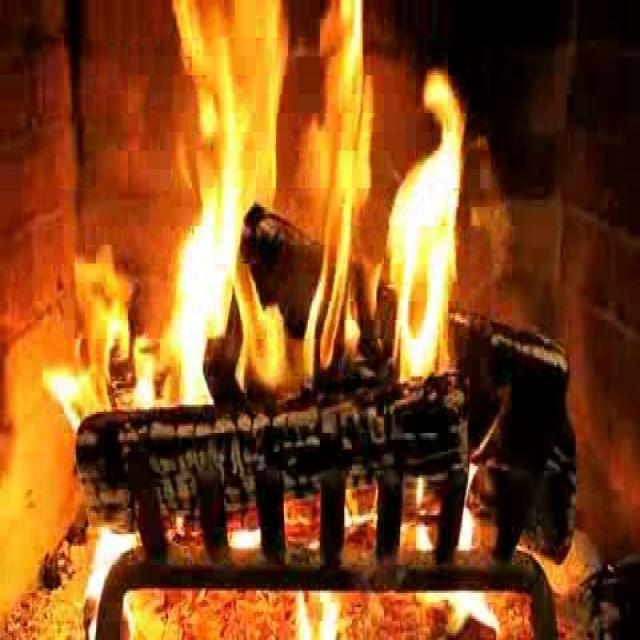Fire: (159, 8, 469, 438)
